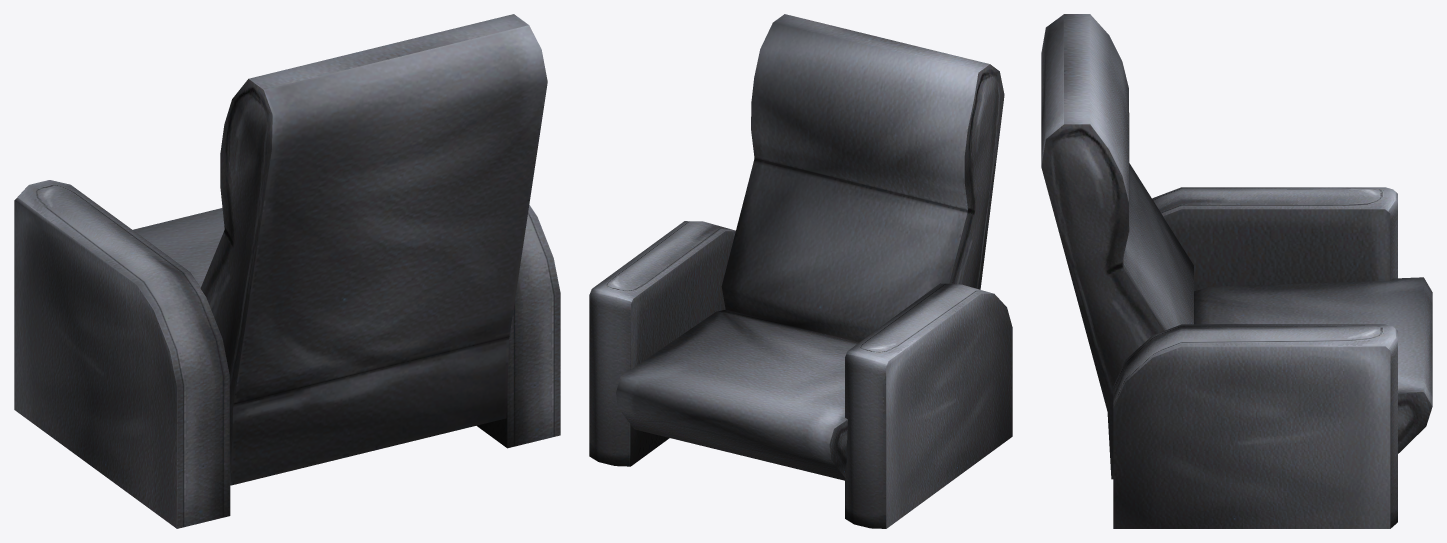
3 views of the same model, side by side, from view 1: azimuth 30°, elevation 25°; view 2: azimuth 150°, elevation 25°; view 3: azimuth 270°, elevation 25° (orthographic). The views are drawn at different scales.
Visible parts, largest first — view 1: Box03; view 2: Box03; view 3: Box03.
Part boxes in pixels (x1,y1,x2,y2): Box03: [14, 14, 560, 528]; Box03: [589, 14, 1012, 528]; Box03: [1041, 14, 1432, 528].
Bounding box in the file's own units: 56.71 × 63.01 × 58.84.
Materials: 1 (1 with a texture image).
